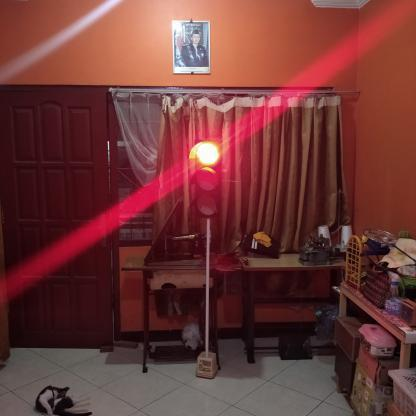red: (188, 140, 222, 217)
